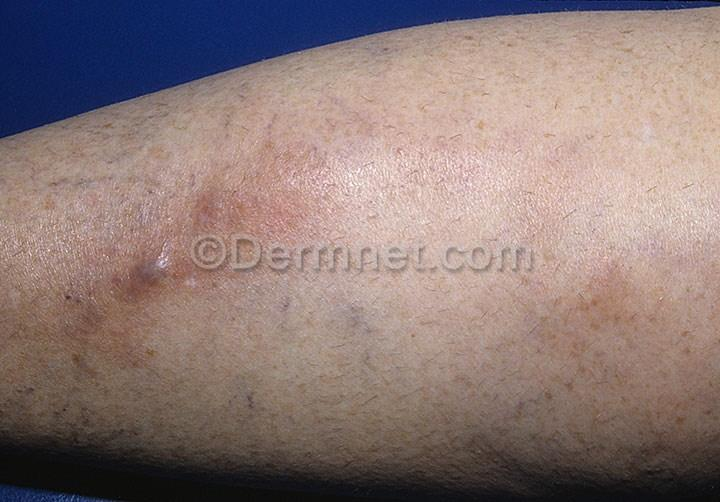Eczema: (176, 164, 311, 242), (110, 221, 206, 313)
